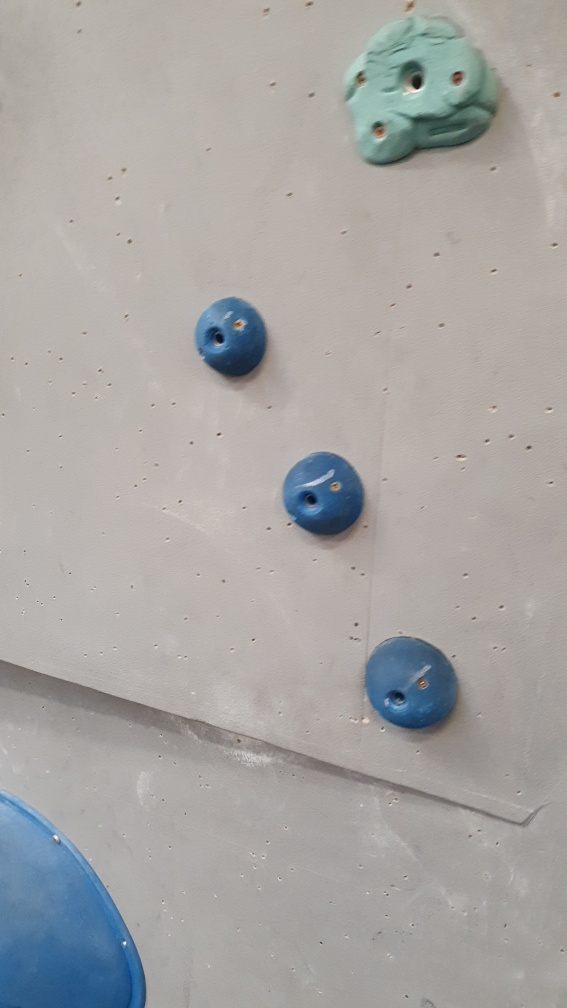Sloper: (360, 636, 463, 731), (282, 454, 365, 541), (195, 298, 270, 380)
